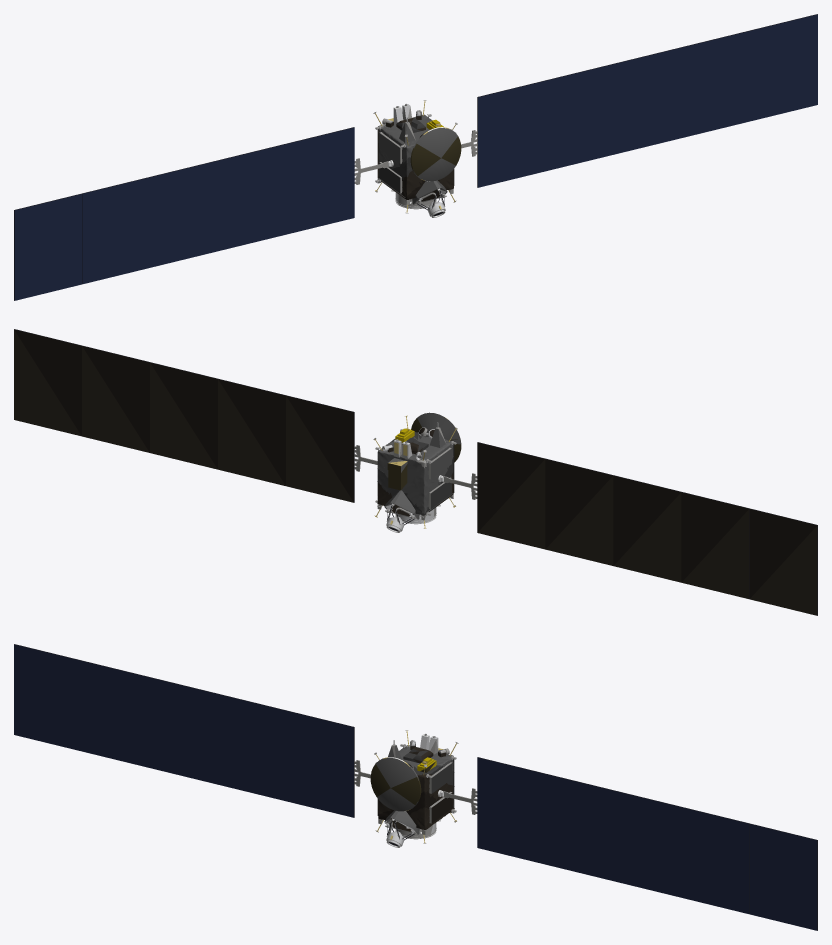
File: dawn.glb
3 renders of one model, top to bottom at view 1: azimuth 30°, elevation 25°; view 2: azimuth 150°, elevation 25°; view 3: azimuth 330°, elevation 25°, orthographic.
Visible parts, largest first — view 1: solar-panel, body, foil; view 2: body, foil, solar-panel; view 3: solar-panel, body, foil.
Part boxes in pixels (x1,y1,x2,y2): solar-panel: (14,14,817,300); body: (354,100,477,217); foil: (375,100,461,212); body: (14,329,817,615); foil: (374,412,461,528); solar-panel: (14,329,817,615); solar-panel: (14,644,817,930); body: (354,730,477,847); foil: (370,730,456,842).
Size of the model in its own units: 19.7 by 2.2 by 2.21.
